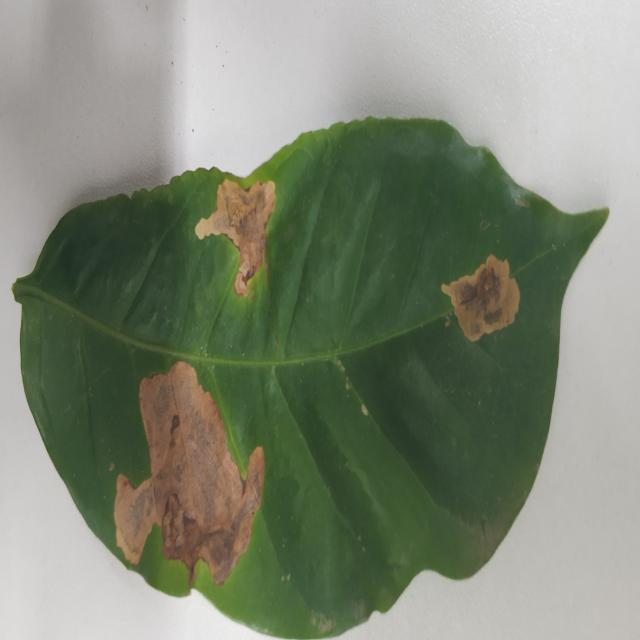Plaga-Minador: (11, 117, 610, 636)
